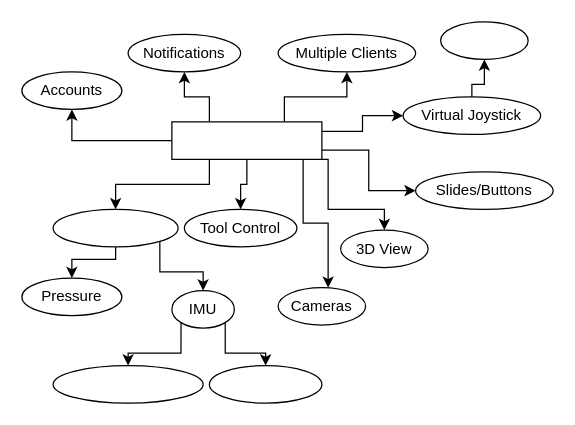
This 575x425 diagram has some shape labels left out. The shapes that lost their labels are listed below. From the top down, each one's centre as x and y in pixels, then its label:
At [483,40]: "Joystick".
At [246,140]: "Control Software".
At [115,227]: "Sensor Values".
At [127,383]: "Accelerometer".
At [265,383]: "Gyroscope".
